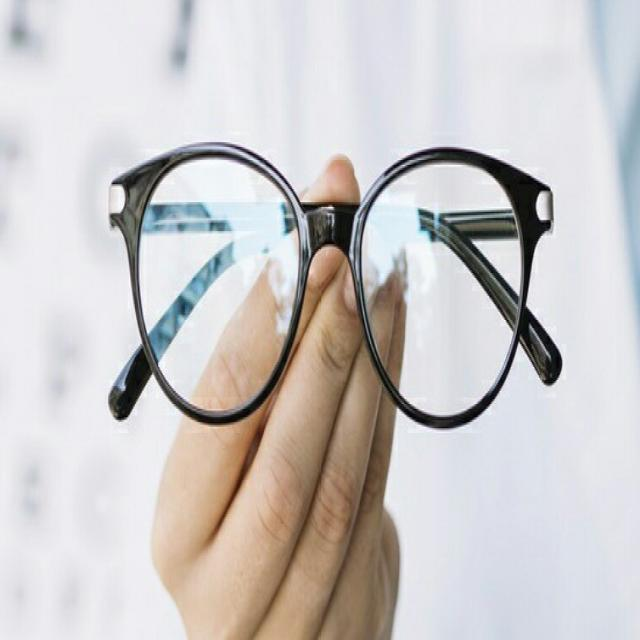Glasses: (104, 137, 567, 430)
